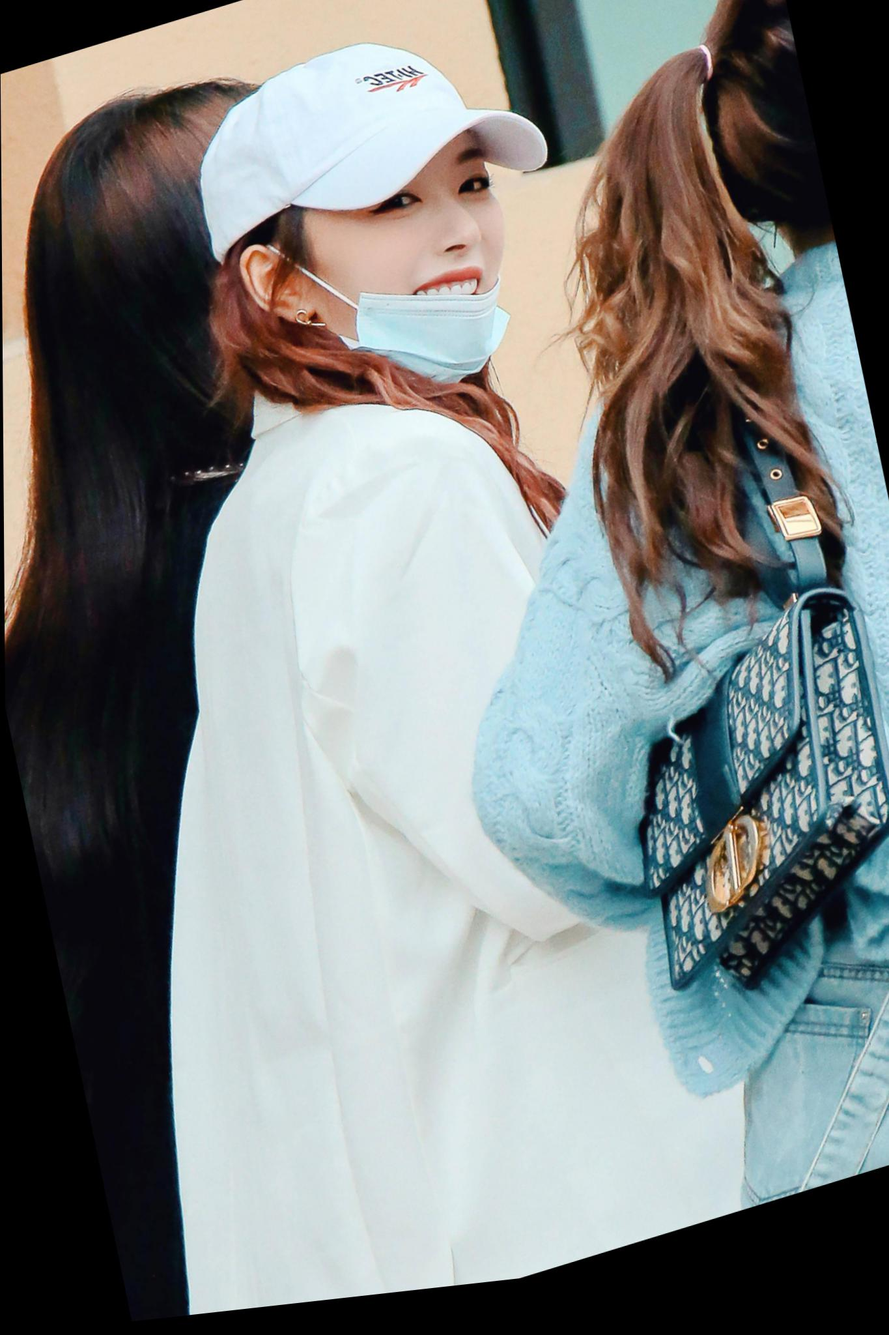WRONG: (304, 121, 531, 424)
